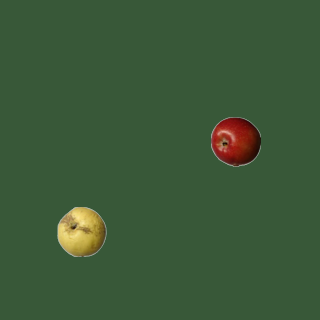Apple Braeburn: (210, 116, 260, 166)
Apple Golden 1: (56, 206, 106, 256)
